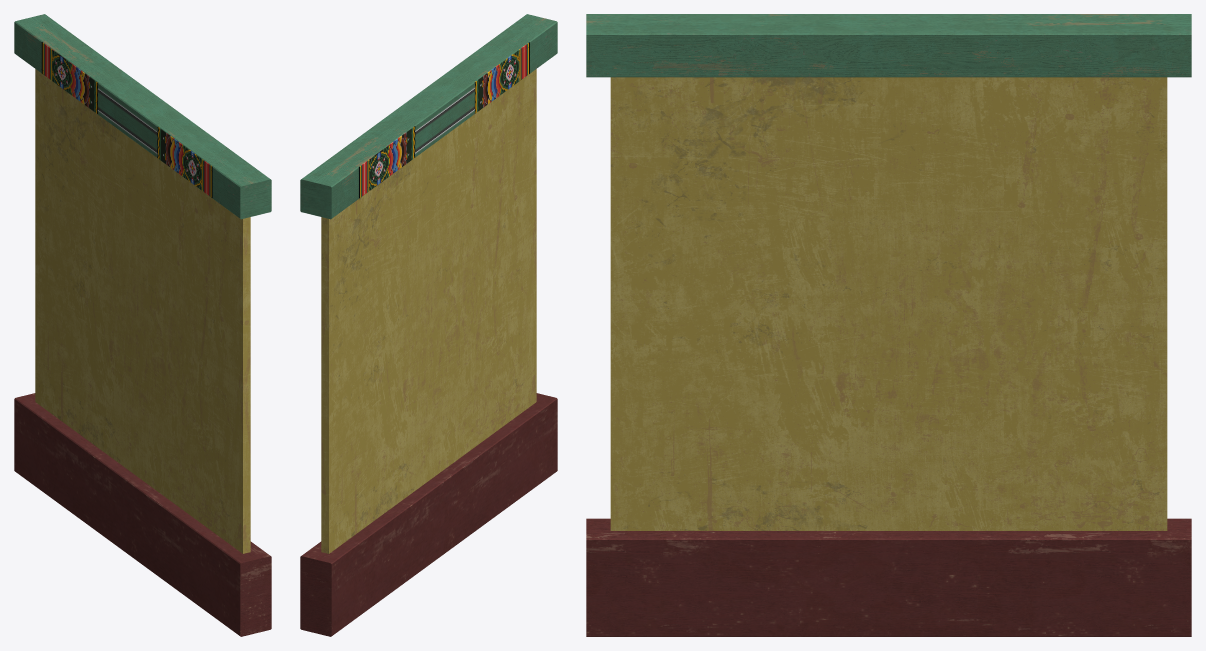
The model's file is SM_Wall02a.fbx.
3 renders of one model, left to right at view 1: azimuth 30°, elevation 25°; view 2: azimuth 150°, elevation 25°; view 3: azimuth 270°, elevation 25°, orthographic. The views are drawn at different scales.
Visible parts, largest first — view 1: SM_Wall02a; view 2: SM_Wall02a; view 3: SM_Wall02a.
Part boxes in pixels (<box>): SM_Wall02a: <box>14,14,271,636</box>; SM_Wall02a: <box>300,14,557,636</box>; SM_Wall02a: <box>586,14,1191,636</box>.
Size of the model in its own units: 20 by 275 by 250.
